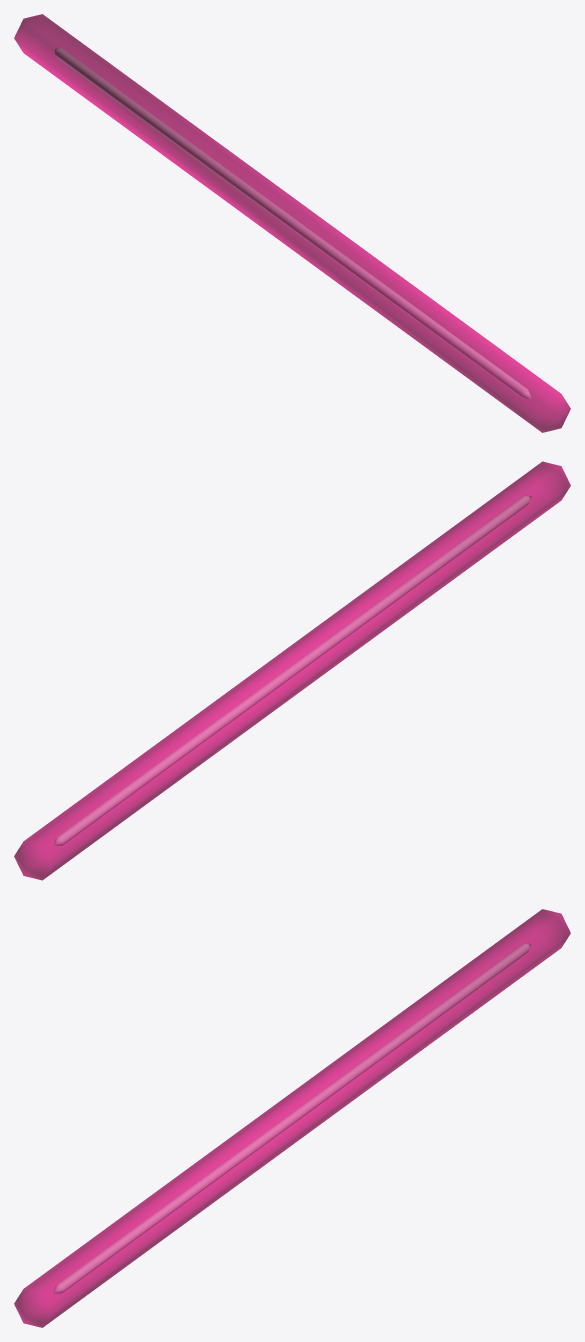
File: salmon_laser_model.fbx
The picture shows the model from 3 angles, top to bottom: view 1: azimuth 30°, elevation 25°; view 2: azimuth 150°, elevation 25°; view 3: azimuth 330°, elevation 25°; orthographic projection.
Parts seen in each view (by area): view 1: glow, bolt; view 2: glow, bolt; view 3: glow, bolt.
Boxes of the visible parts, box(x1,y1,x2,y2) form: glow: box(14, 14, 570, 432); bolt: box(54, 48, 531, 398); glow: box(14, 461, 570, 880); bolt: box(54, 495, 531, 845); glow: box(14, 909, 570, 1327); bolt: box(53, 943, 530, 1293).
Bounding box in the file's own units: 3.15 × 2.73 × 76.43.
